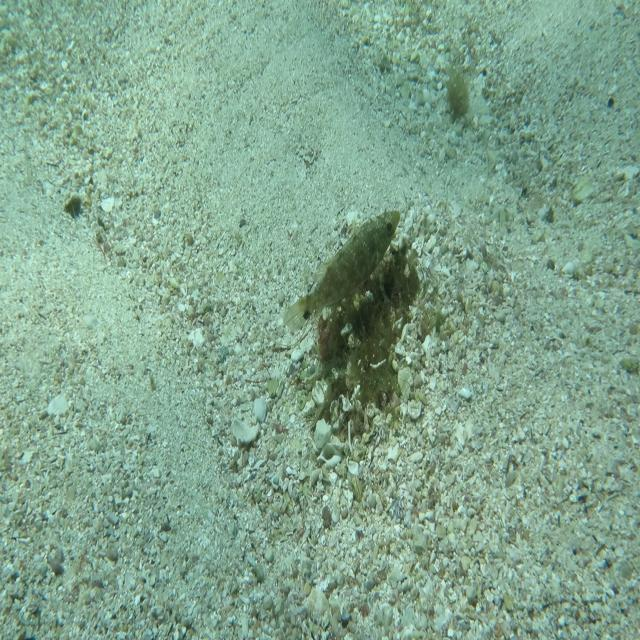FAN: (282, 209, 402, 336)
core_nest: (366, 270, 410, 312)
nest: (295, 232, 426, 440)
vegetation: (445, 68, 475, 135), (61, 194, 83, 226)
